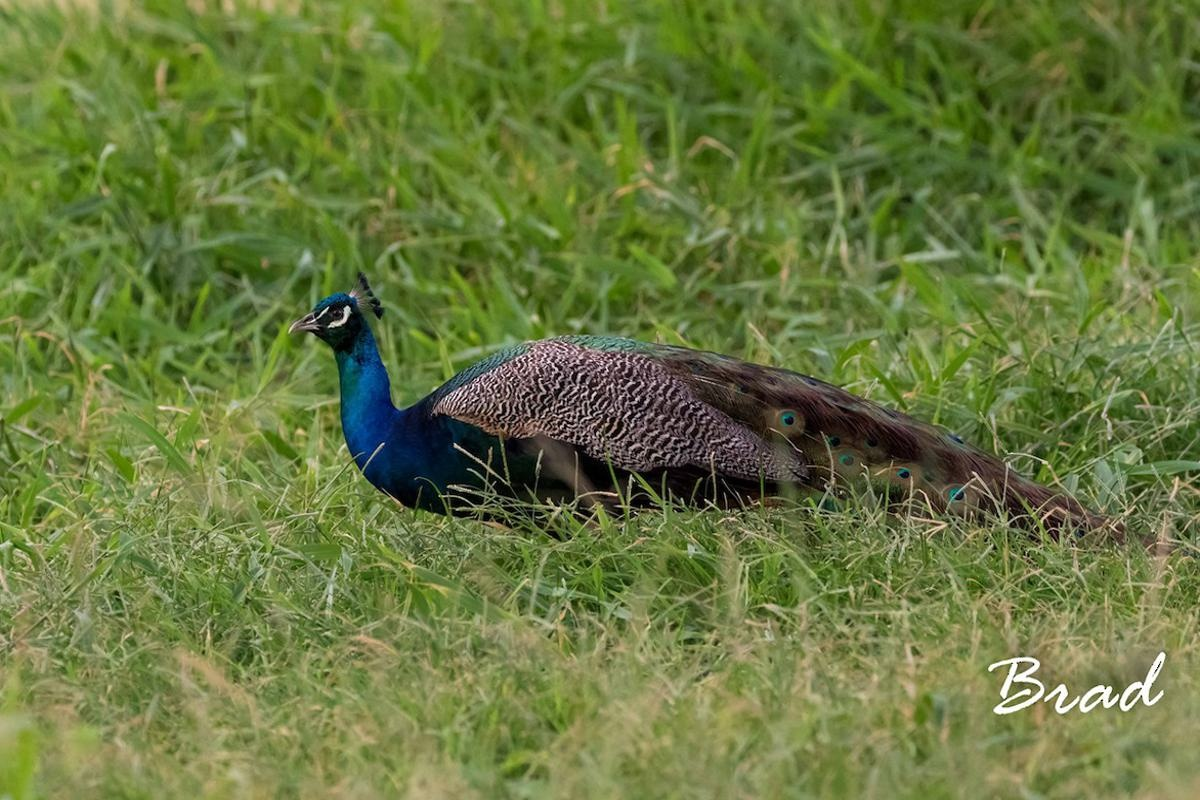peacock: (281, 271, 985, 546)
